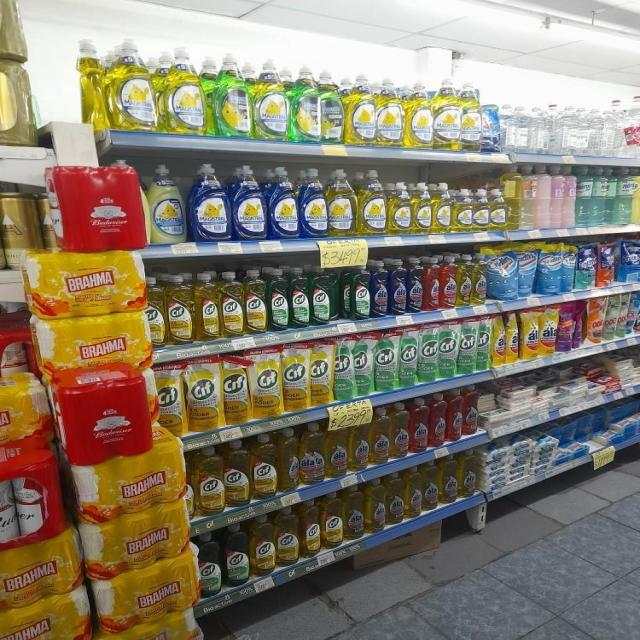ala_conc_amarillo: (300, 421, 324, 485), (278, 426, 299, 492), (325, 419, 347, 478), (343, 483, 364, 540), (348, 415, 369, 471), (365, 477, 385, 532), (370, 407, 389, 464), (390, 402, 408, 458), (386, 470, 404, 524), (458, 450, 478, 497), (404, 465, 422, 517), (440, 454, 458, 504), (422, 459, 438, 511), (457, 254, 471, 306), (472, 254, 486, 305)
ala_conc_azul: (370, 260, 388, 317), (388, 259, 406, 315), (407, 257, 422, 313)
ala_conc_rojo: (409, 396, 428, 453), (429, 393, 446, 447), (424, 256, 440, 311), (441, 255, 456, 309), (447, 388, 462, 442), (463, 386, 477, 436)
ala_sachet_amarillo: (521, 308, 539, 360), (540, 305, 557, 356), (492, 312, 506, 367), (506, 310, 520, 364)
cif_conc_bot_amarilla: (194, 447, 223, 516), (166, 273, 193, 344), (224, 439, 250, 507), (251, 433, 277, 499), (194, 271, 218, 341), (220, 270, 243, 337), (251, 514, 275, 576), (244, 268, 266, 334), (276, 504, 298, 566), (147, 275, 165, 346), (321, 491, 342, 548), (300, 498, 320, 557)
cif_conc_botella_verde: (197, 531, 223, 597), (225, 522, 249, 586), (289, 266, 310, 328), (268, 267, 288, 331), (311, 266, 331, 326), (352, 263, 370, 319), (340, 264, 352, 320)
cif_conc_sachet_amarillo: (187, 356, 220, 431), (250, 348, 282, 419), (155, 364, 185, 436), (222, 354, 249, 425), (282, 342, 309, 412), (310, 339, 332, 406)
cif_conc_sachet_verde: (374, 331, 397, 392), (333, 336, 354, 401), (398, 327, 418, 388), (418, 324, 438, 383), (354, 334, 373, 396), (438, 321, 456, 379), (458, 318, 474, 374), (476, 314, 491, 371)
drive: (558, 302, 574, 352)
heroe: (576, 166, 591, 226)
magistral_con_amarillo: (109, 36, 156, 131), (160, 44, 205, 134), (253, 56, 289, 140), (344, 69, 375, 145), (376, 73, 404, 147), (433, 75, 460, 150), (328, 168, 357, 237), (405, 76, 432, 148), (358, 168, 387, 235), (461, 77, 481, 151), (388, 182, 411, 234), (411, 181, 431, 234), (432, 182, 451, 233), (452, 188, 472, 232), (489, 188, 506, 231), (473, 188, 489, 232)
magistral_con_azul: (190, 163, 230, 241), (232, 164, 266, 240), (299, 168, 327, 238)
magistral_con_crema: (148, 163, 187, 244)
